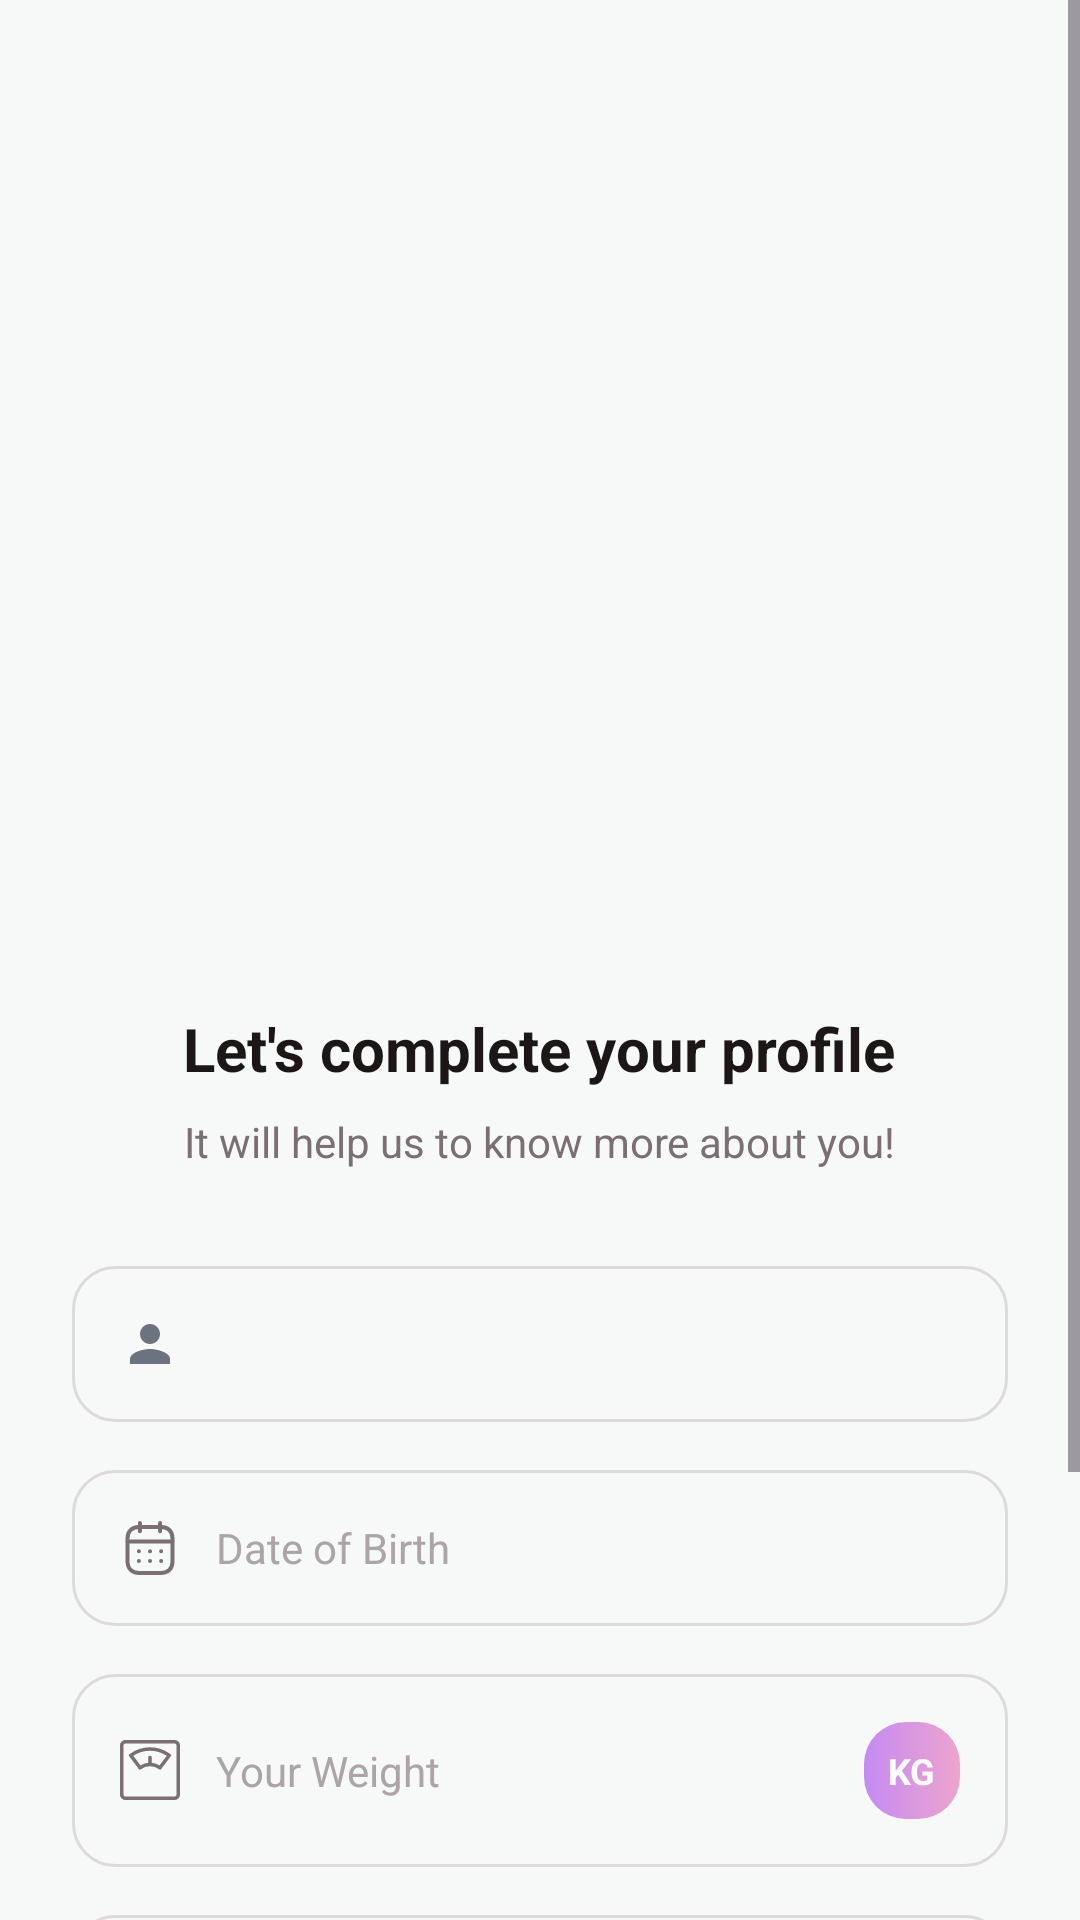

Point at icon controls on the screen. Image size 1080×1920, points as [x,y].
calendar: [150,1548]
profile: [150,1344]
